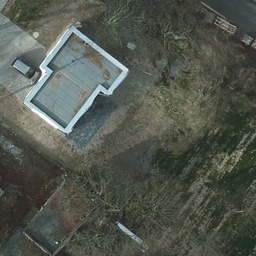car: (11, 56, 39, 82)
